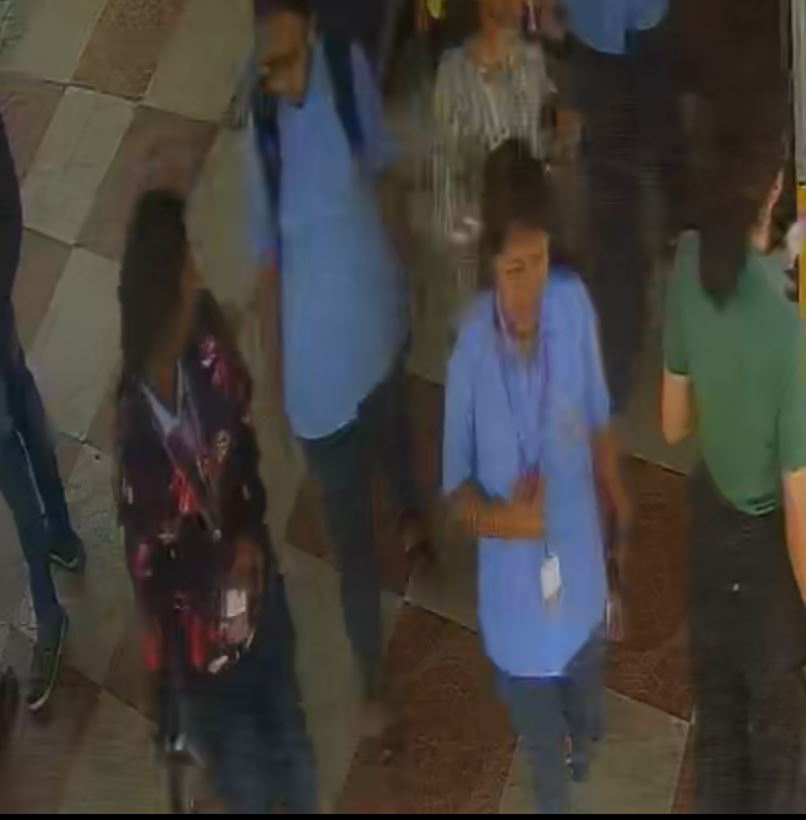intruder: (111, 219, 322, 820), (224, 1, 429, 607)
not intruder: (448, 136, 643, 792)
